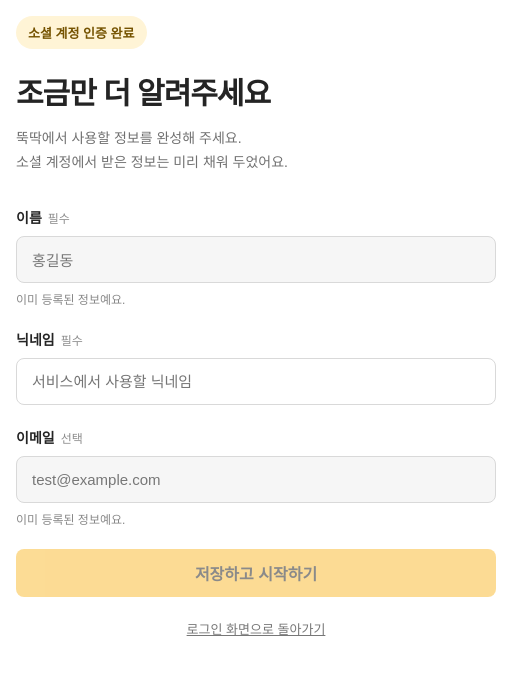
Test case: duplicate nickname keeps input and does not grant login
Type "중복닉네임" into the field labelled "닉네임" at (256, 381), box [16, 358, 496, 405]
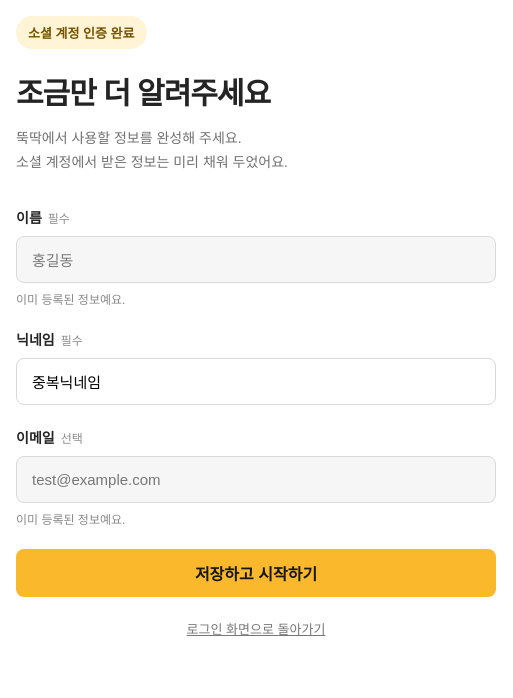
Click the button "저장하고 시작하기" at (256, 573), box [16, 549, 496, 597]
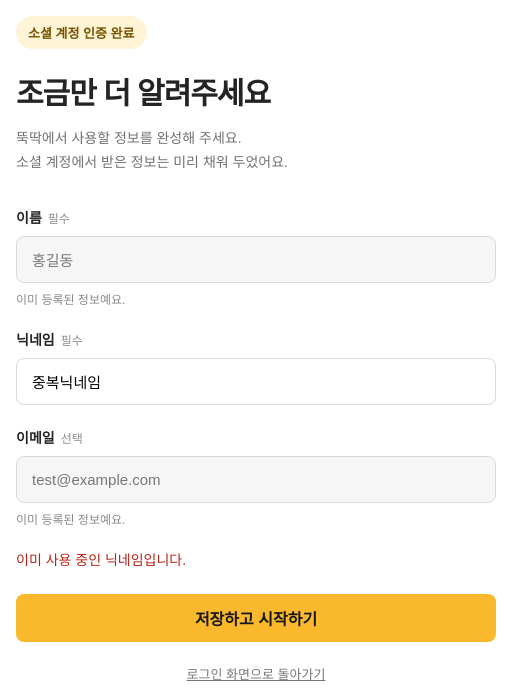
Check: the message shows "이미 사용 중인 닉네임", box [16, 552, 186, 568]
